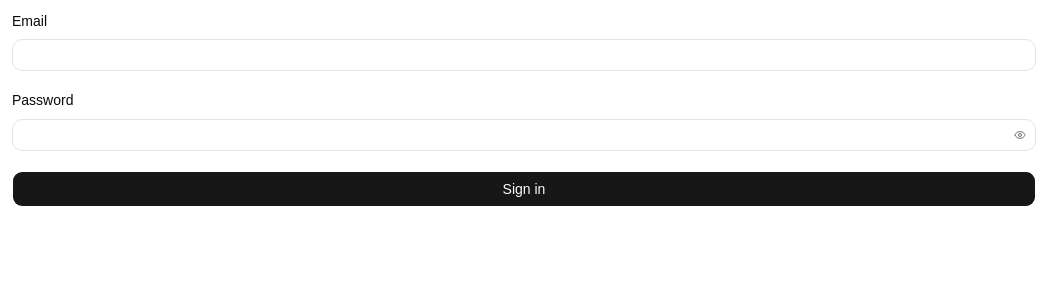
Test: SignInForm › shows a rate-limit message on 429
Type "jane@example.com" into the field labelled "Email" at coordinates (524, 55), box [12,39,1036,71]
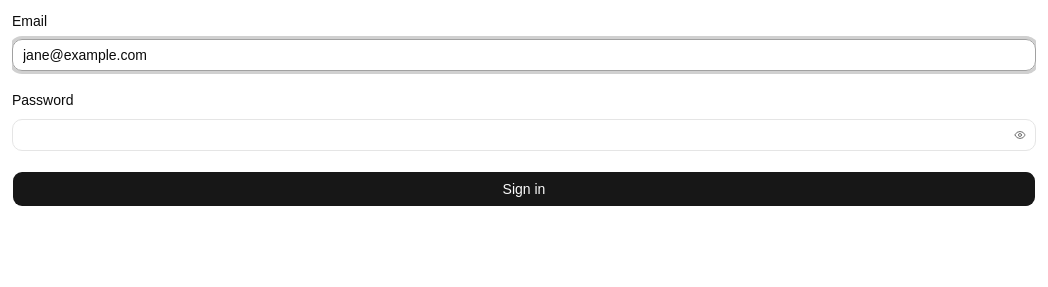
Type "Passw0rd!" into the password field labelled "Password" at coordinates (524, 134), box [12,118,1036,150]
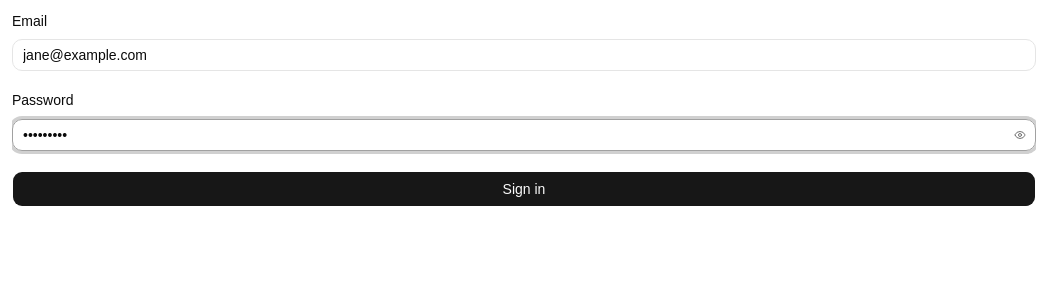
Click the button "Sign in" at coordinates (524, 188), box [12,170,1036,206]
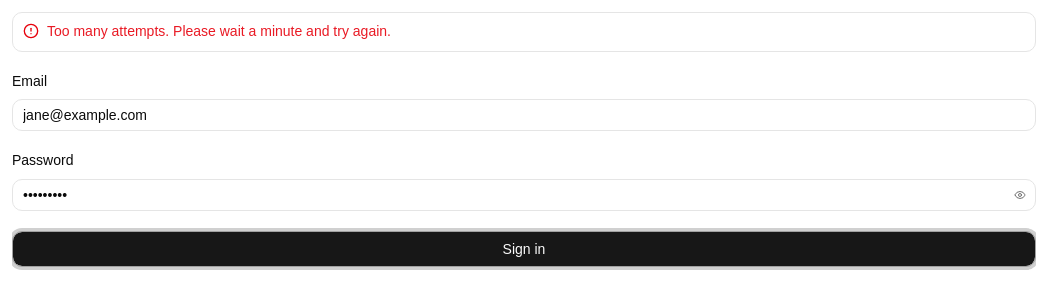
Result: the text "Too many attempts. Please wait a minute and try again." is shown at [47,23,391,39]
